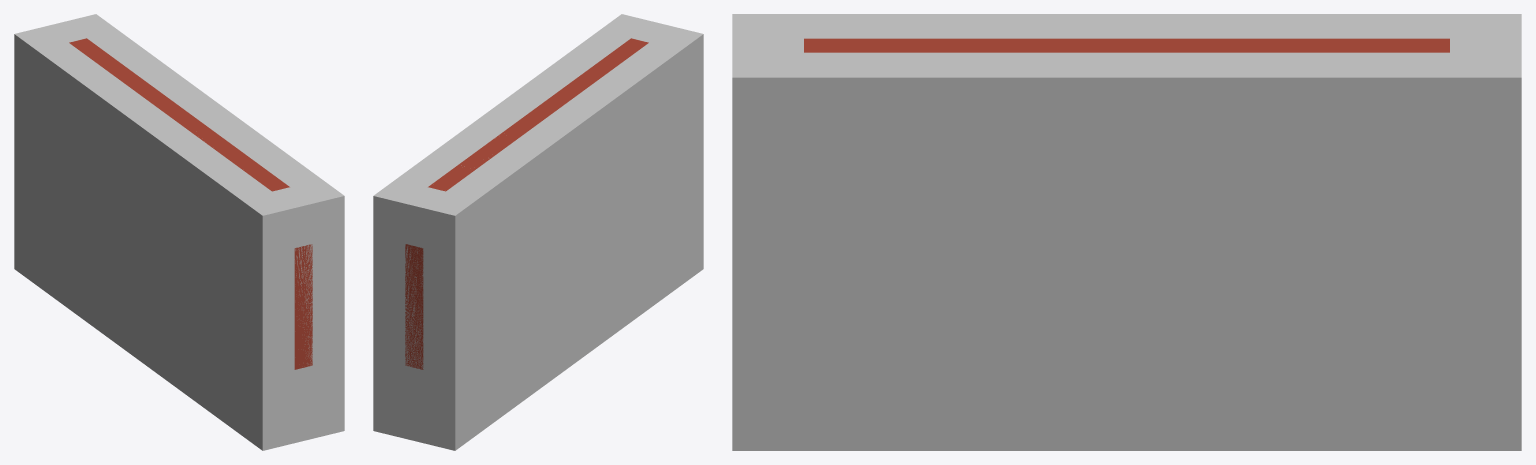
File: SM_PavementBarriers_09.fbx
3 views of the same model, side by side, from view 1: azimuth 30°, elevation 25°; view 2: azimuth 150°, elevation 25°; view 3: azimuth 270°, elevation 25° (orthographic). The views are drawn at different scales.
Parts seen in each view (by area): view 1: SM_PavementBarriers_09_ConvexHulls, SM_PavementBarriers_09; view 2: SM_PavementBarriers_09_ConvexHulls, SM_PavementBarriers_09; view 3: SM_PavementBarriers_09_ConvexHulls, SM_PavementBarriers_09.
Boxes of the visible parts, left/top/right/bottom form: SM_PavementBarriers_09_ConvexHulls: left=14, top=14, right=344, bottom=450; SM_PavementBarriers_09: left=69, top=38, right=312, bottom=369; SM_PavementBarriers_09_ConvexHulls: left=373, top=14, right=703, bottom=450; SM_PavementBarriers_09: left=405, top=38, right=648, bottom=369; SM_PavementBarriers_09_ConvexHulls: left=732, top=14, right=1521, bottom=450; SM_PavementBarriers_09: left=804, top=38, right=1449, bottom=52.
Size of the model in its own units: 27.28 by 143 by 74.82.
